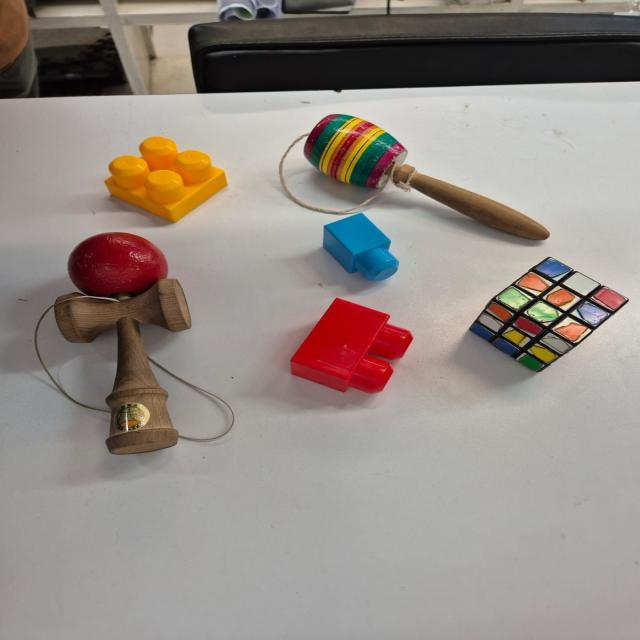balero: (276, 114, 552, 242)
balero ball: (27, 236, 244, 460)
lego 2: (290, 296, 415, 393)
lego 4: (101, 136, 228, 224)
lego_1: (321, 211, 399, 278)
rubick: (465, 259, 628, 371)
